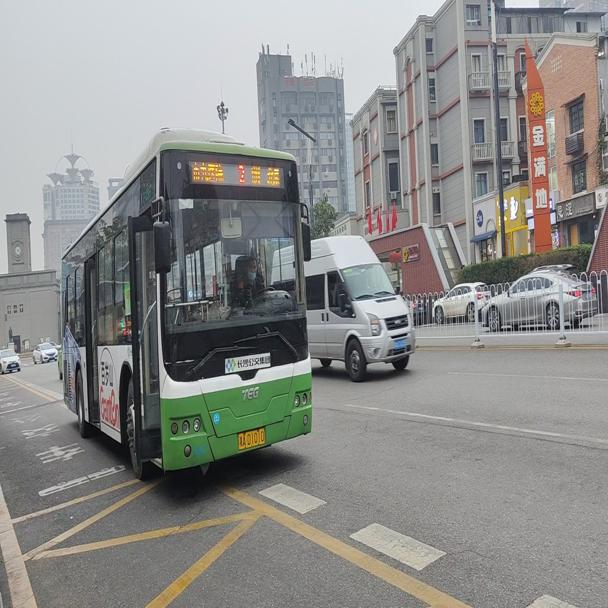bus: (58, 122, 314, 469)
screen: (232, 162, 248, 184)
